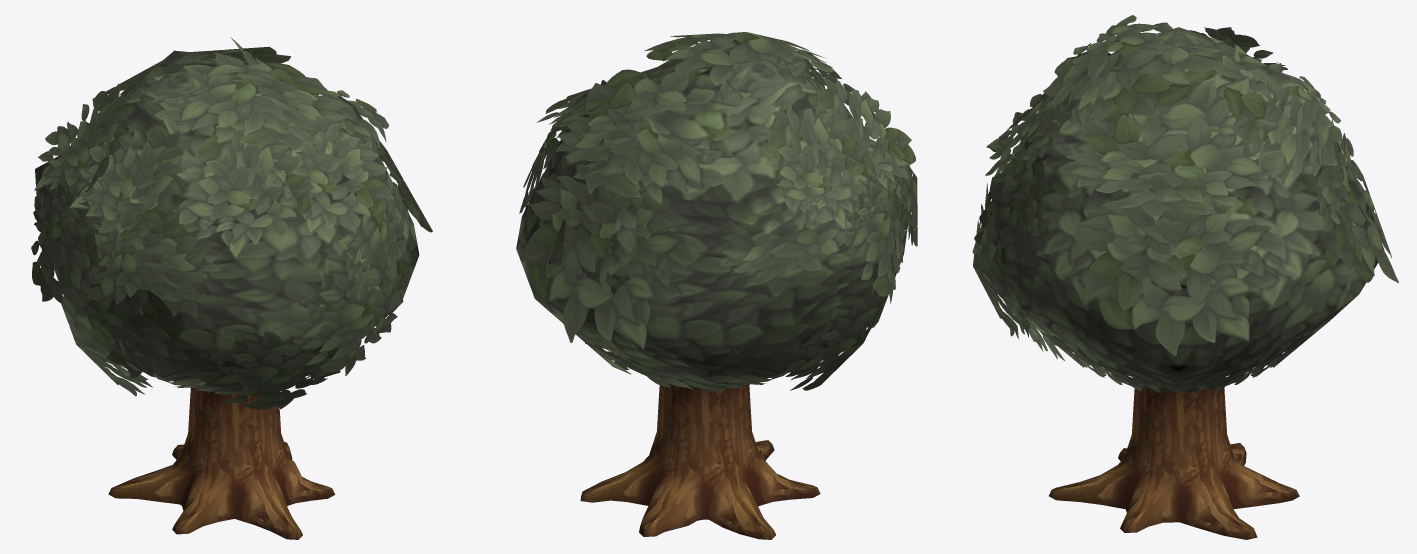
The model's file is RoundTree.FBX.
3 views of the same model, side by side, from view 1: azimuth 30°, elevation 25°; view 2: azimuth 150°, elevation 25°; view 3: azimuth 270°, elevation 25° (orthographic). The views are drawn at different scales.
Parts seen in each view (by area): view 1: RoundTree; view 2: RoundTree; view 3: RoundTree.
Boxes of the visible parts, <box> form: RoundTree: <box>31,38,432,539</box>; RoundTree: <box>516,32,917,539</box>; RoundTree: <box>972,15,1398,539</box>.
Bounding box in the file's own units: 78.29 × 78.9 × 89.72.
